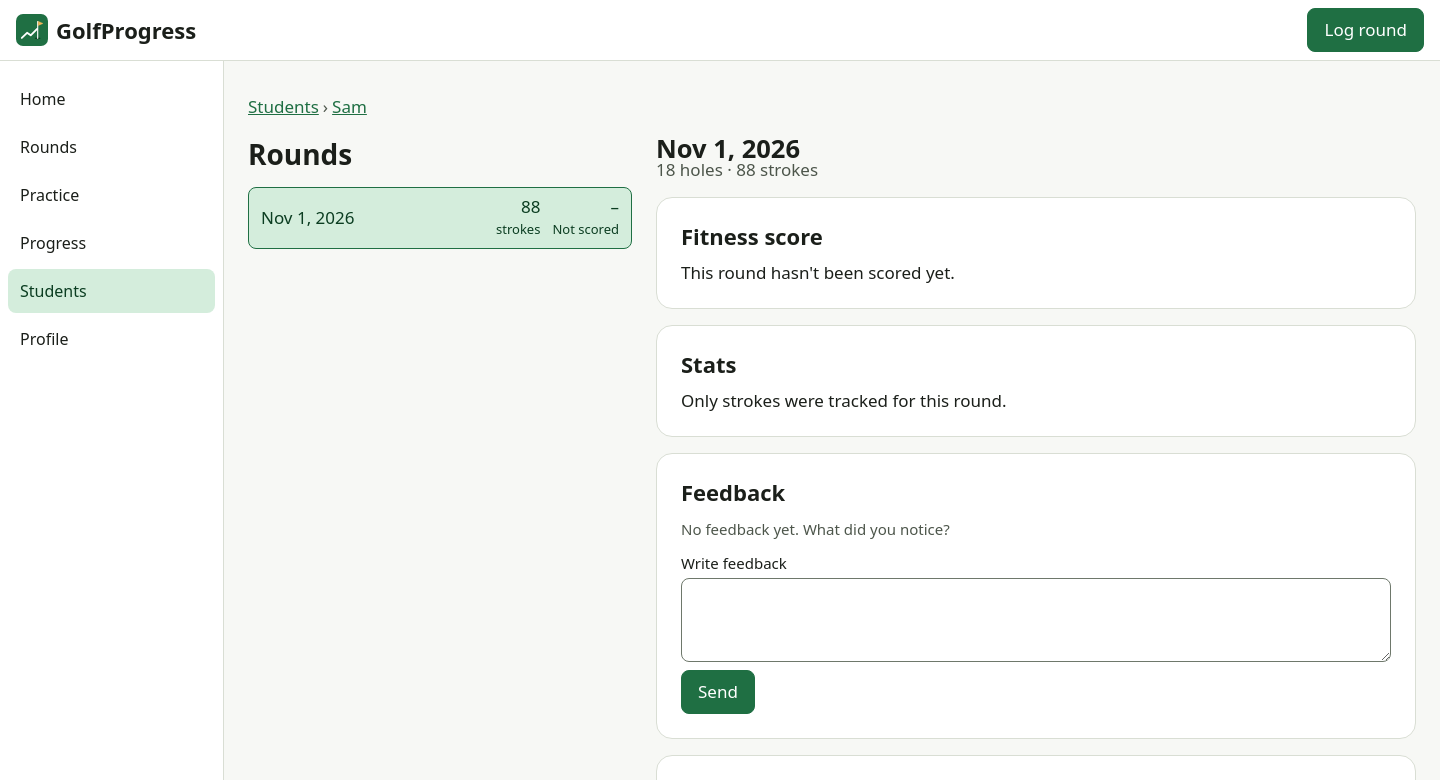
Test case: a coach's feedback on a student's round (#214) › edits and deletes their own message
The width and height of the screenshot is (1440, 780).
Expected: the text "No feedback yet. What did you notice?" is shown, x1=681 y1=519 x2=950 y2=539
Type "First try" into the text box labelled "Write feedback". click: (1036, 620)
box: x1=681 y1=578 x2=1391 y2=662
Click the button "Send". click: (718, 692)
box: x1=681 y1=670 x2=755 y2=714
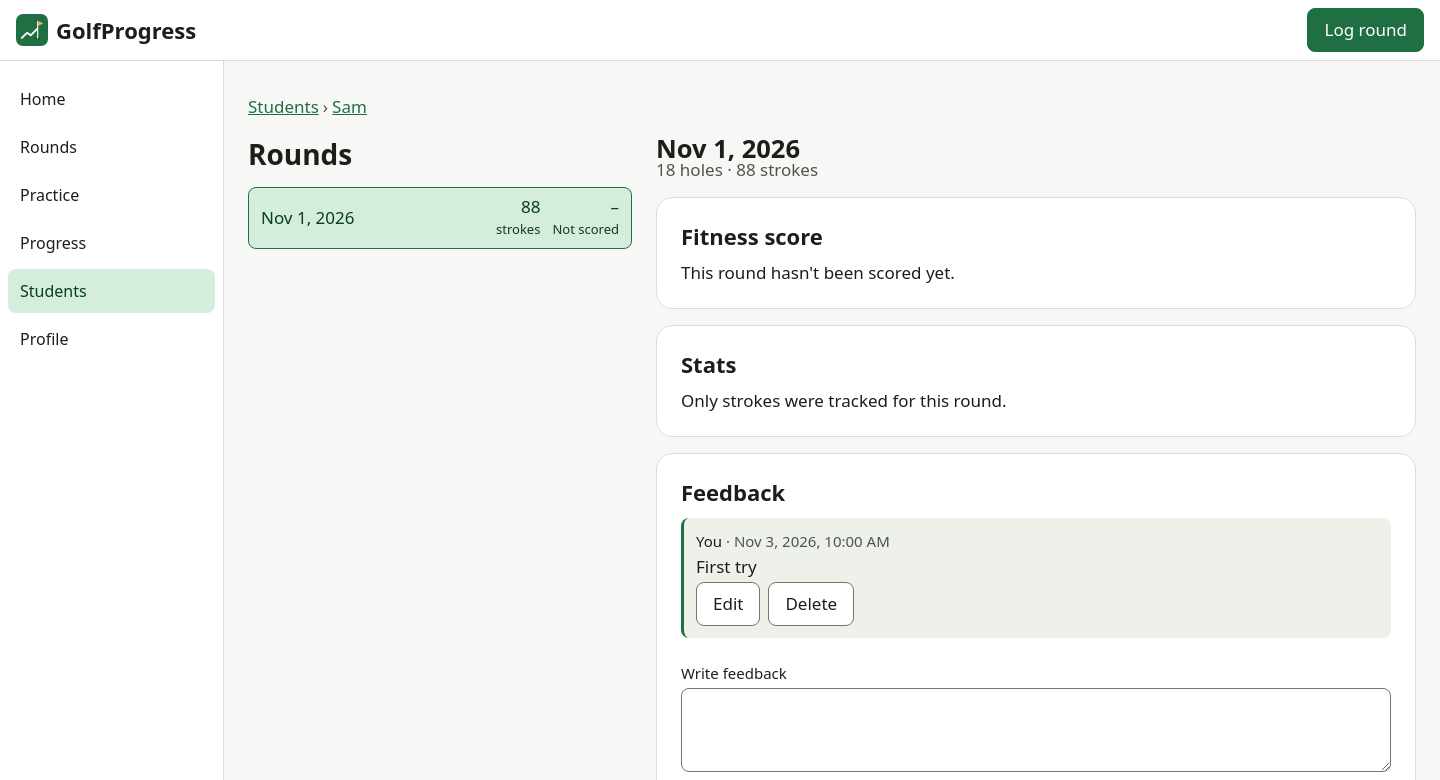
Expected: the text "First try" is shown, x1=696 y1=555 x2=757 y2=578
Click the button with aria-label "Edit your message of". click: (728, 604)
box: x1=696 y1=582 x2=760 y2=626
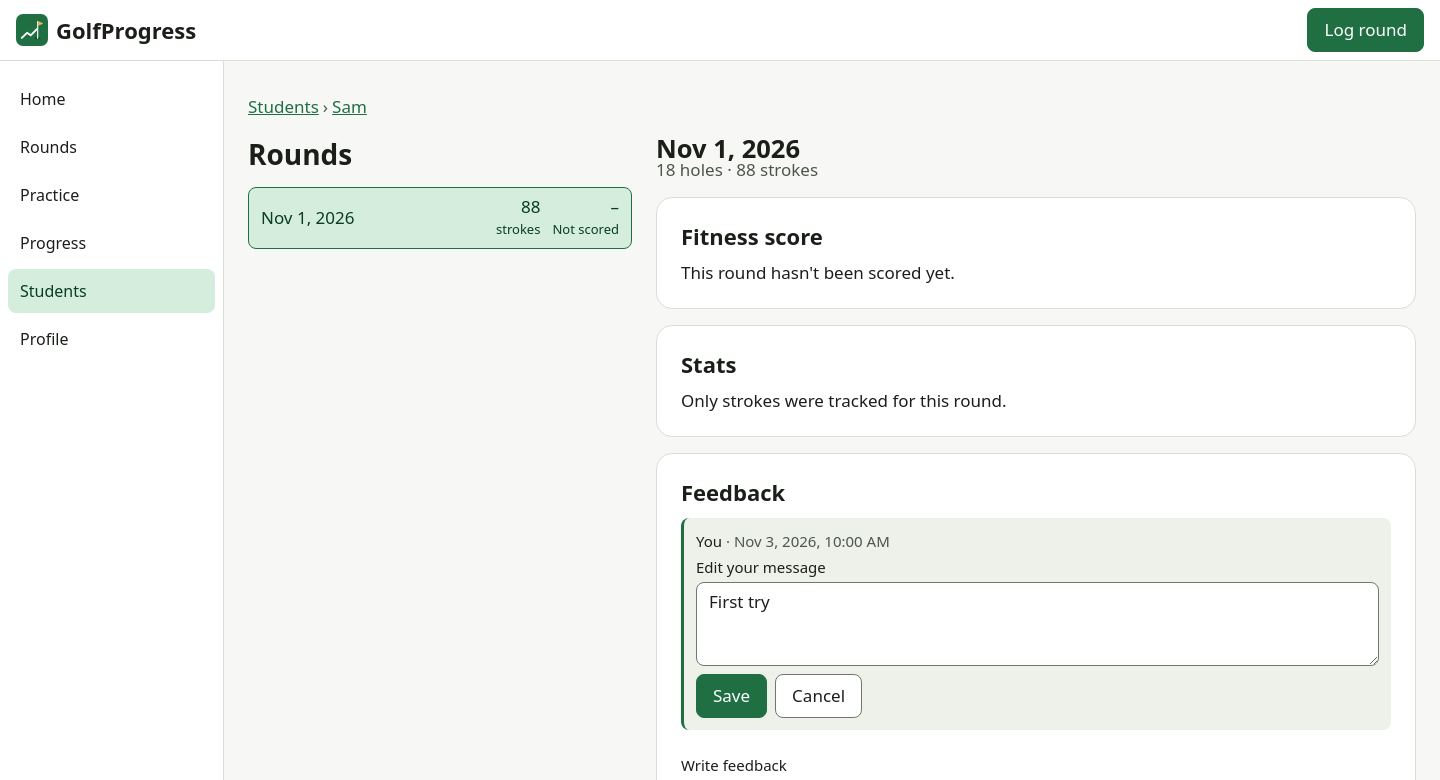
Replace the text in the text box labelled "Edit your message" with "Second try". click: (1038, 624)
box: x1=696 y1=582 x2=1379 y2=666
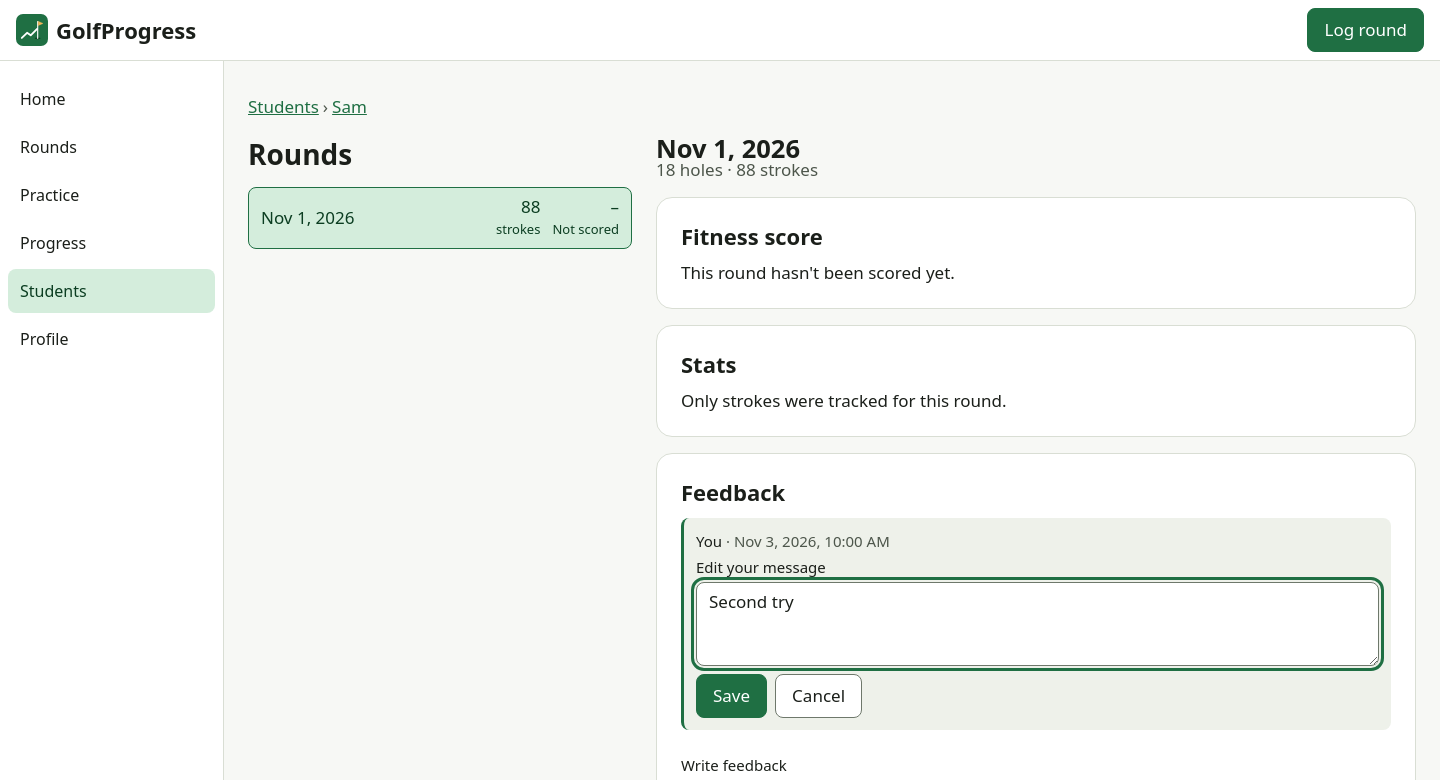
Click the button "Save". click: (732, 696)
box: x1=696 y1=674 x2=767 y2=718
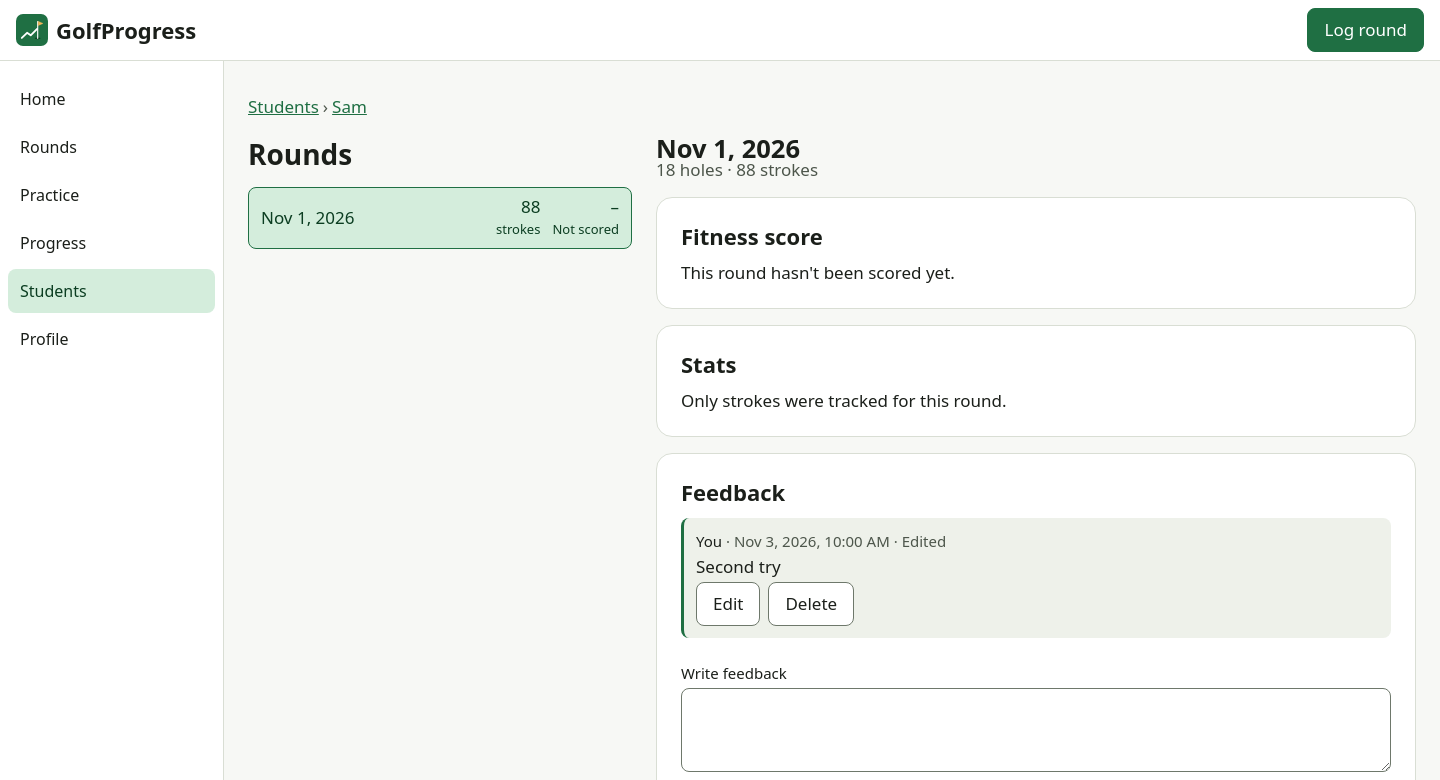
Expected: the text "Second try" is shown, x1=696 y1=555 x2=781 y2=578
Expected: the text "· Edited" is shown, x1=890 y1=531 x2=946 y2=551
Click the button with aria-label "Delete your message of". click: (811, 604)
box: x1=768 y1=582 x2=854 y2=626
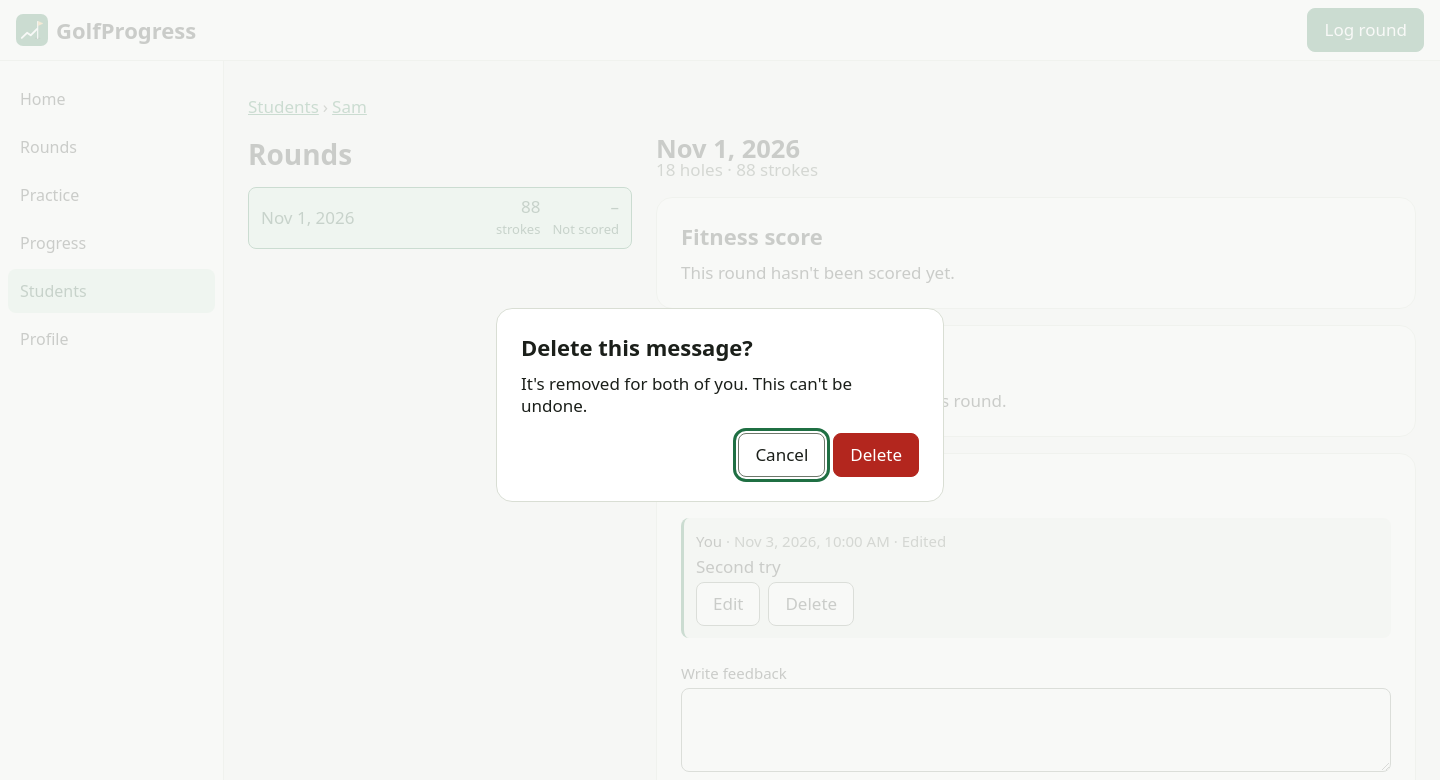
Click the button "Delete". click: (876, 455)
box: x1=833 y1=433 x2=919 y2=477
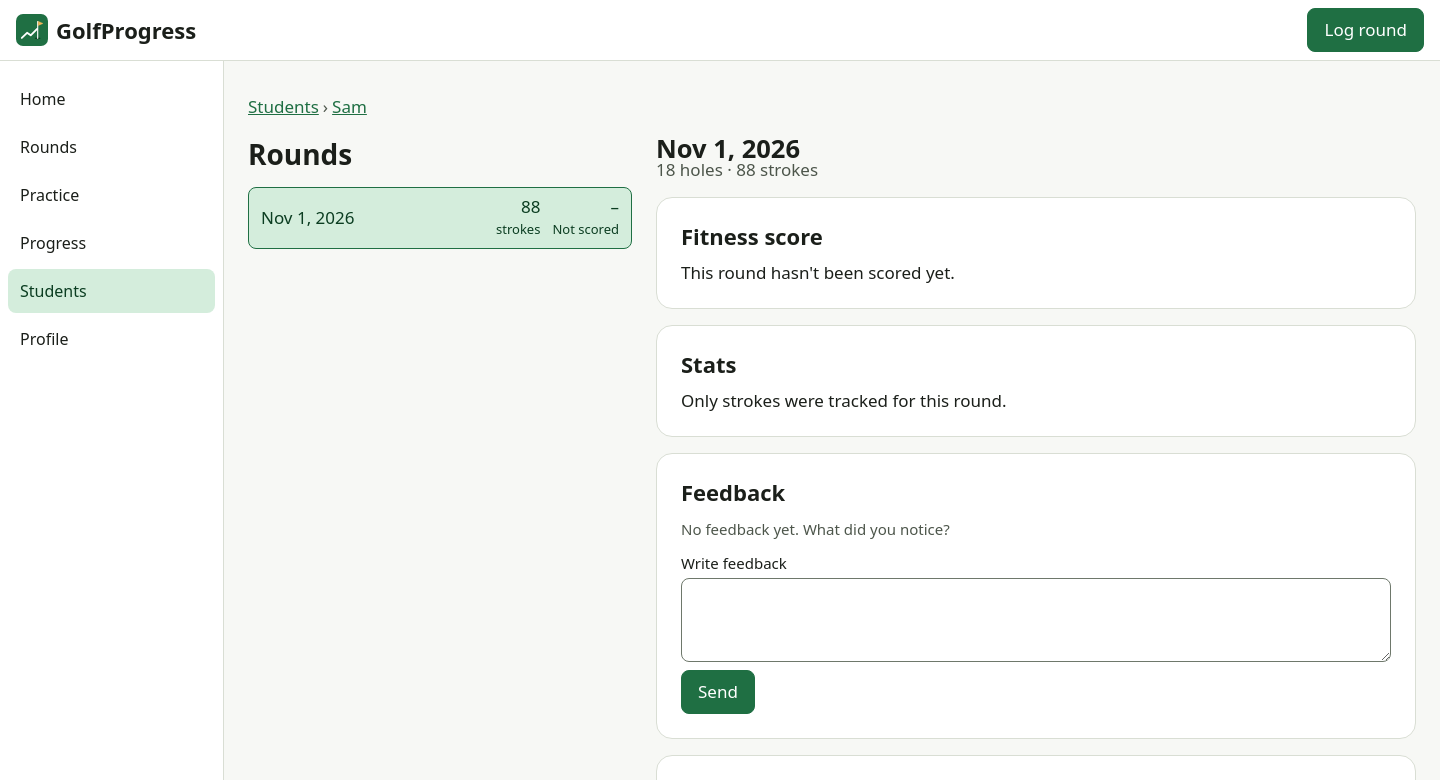
Expected: the text "No feedback yet. What did you notice?" is shown, x1=681 y1=519 x2=950 y2=539
